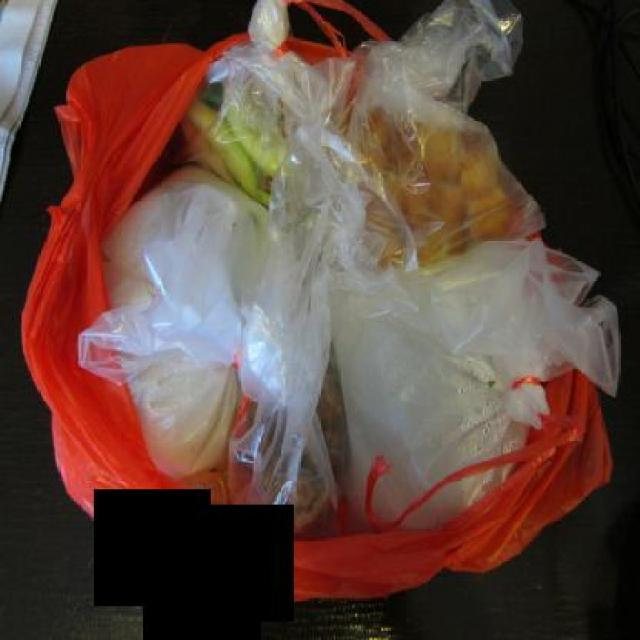plastic bag: (15, 0, 617, 606), (331, 242, 617, 546)
